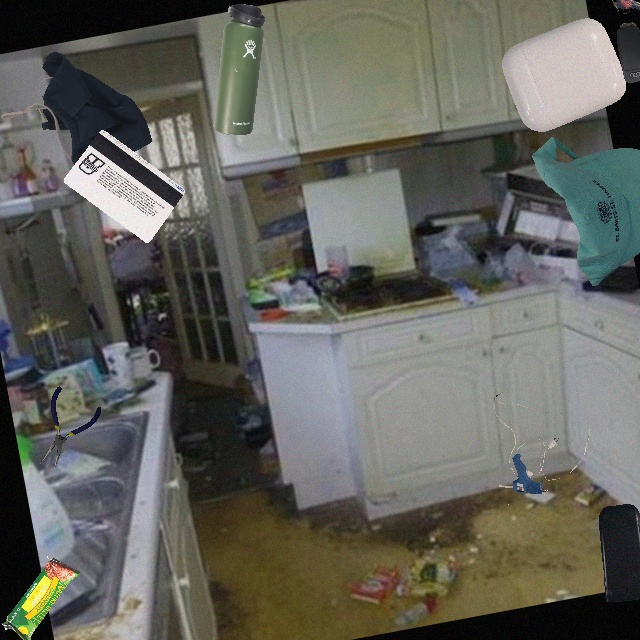Airpods: (486, 2, 640, 160)
Bottle: (165, 0, 304, 137)
Calculator: (571, 492, 640, 606)
Granola Bar: (0, 539, 97, 640)
Hat: (522, 123, 640, 290)
Hot Glue Gun: (467, 381, 591, 506)
Keys: (550, 0, 640, 89)
Mask: (0, 39, 151, 202)
Pliers: (19, 385, 107, 473)
Ucard: (59, 123, 186, 250)
